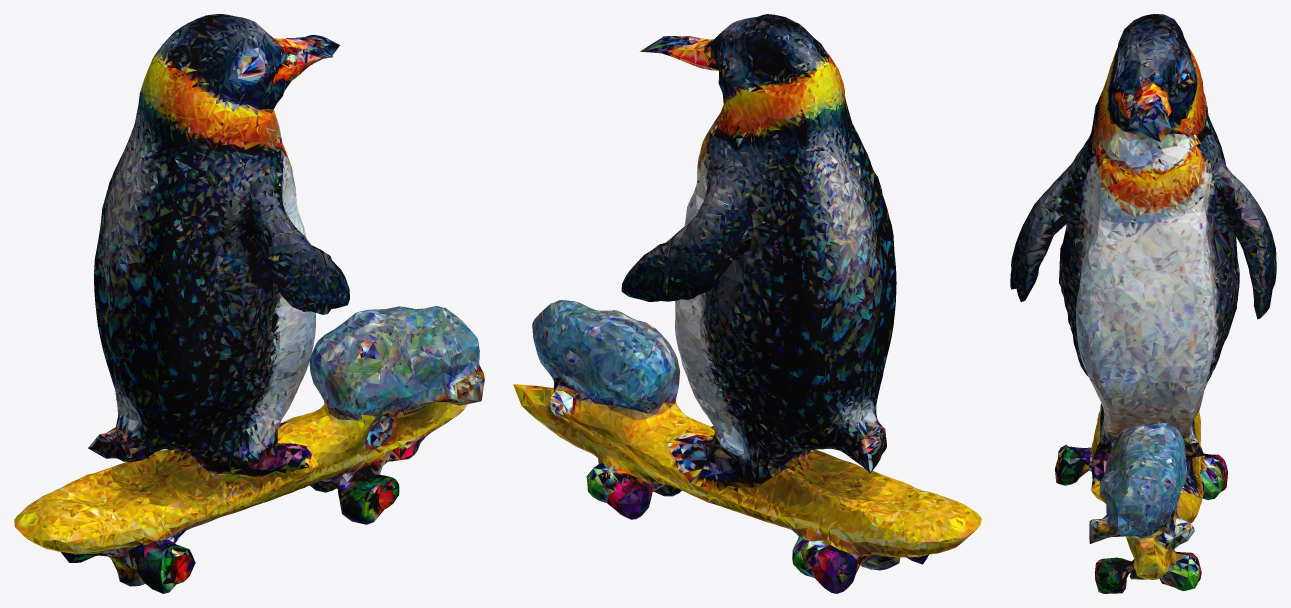
Rendered from penguin-depth.glb.
The picture shows the model from 3 angles, left to right: view 1: azimuth 30°, elevation 25°; view 2: azimuth 150°, elevation 25°; view 3: azimuth 270°, elevation 25°; orthographic projection.
Parts seen in each view (by area): view 1: extracted_mesh; view 2: extracted_mesh; view 3: extracted_mesh.
Boxes of the visible parts, x1,y1,x2,y2 form: extracted_mesh: [14, 14, 484, 593]; extracted_mesh: [513, 14, 981, 593]; extracted_mesh: [1010, 14, 1276, 593].
Bounding box in the file's own units: 0.933 × 1.05 × 0.4814.
1 material, 1 textured.
